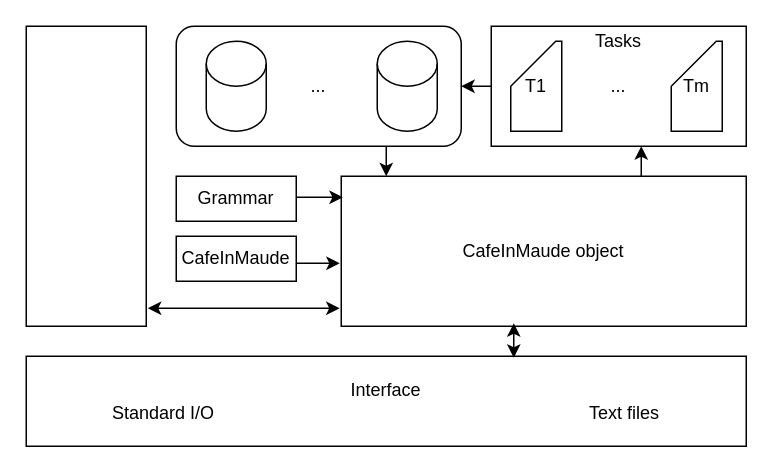
Some shapes in this 773 by 473 pixel diagram are drawn without their labels. Here are the shapes that lost their labels. From the top down, the box of each, then its label:
(205, 40, 266, 131): MI1
(376, 40, 437, 131): MIn
(25, 25, 146, 326): Database
